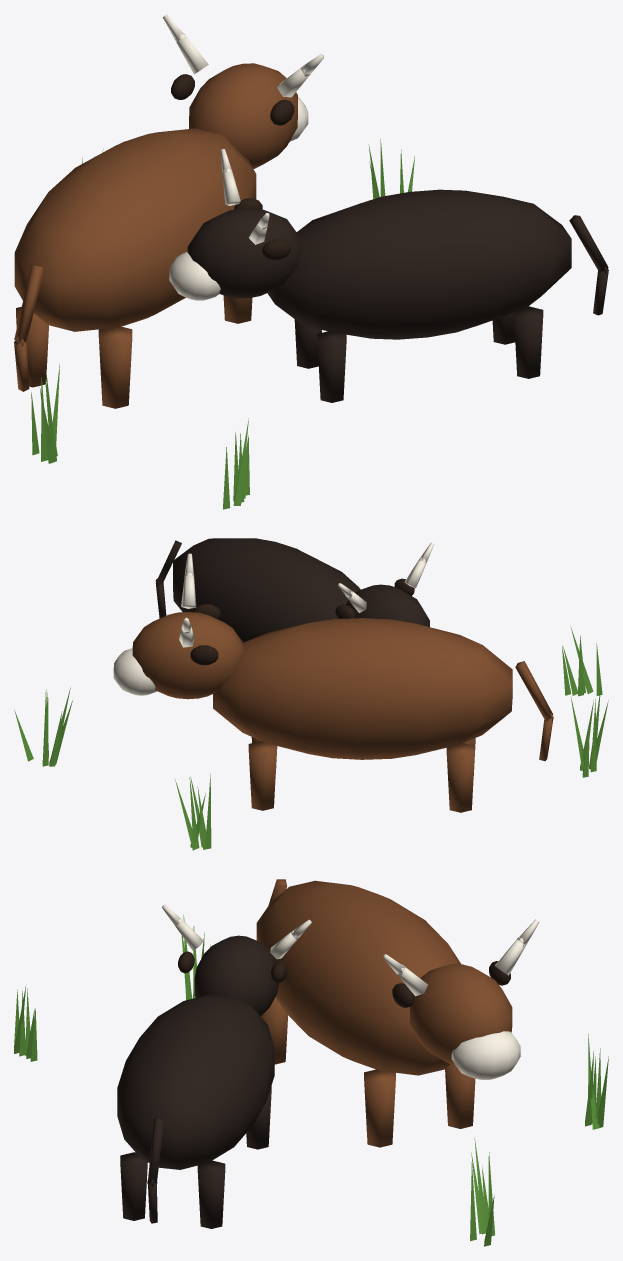
Rendered from resource_cattle.fbx.
The picture shows the model from 3 angles, top to bottom: view 1: azimuth 30°, elevation 25°; view 2: azimuth 150°, elevation 25°; view 3: azimuth 270°, elevation 25°; orthographic projection. The views are drawn at different scales.
Visible parts, largest first — view 1: resource_cattle_fur#2a1f1a_03, resource_cattle_fur#7a4a2a_00, resource_cattle_fur#f2ebdc_01, resource_cattle_grass#5d9a3a_04, resource_cattle_dk#2a1c14_02; view 2: resource_cattle_fur#7a4a2a_00, resource_cattle_fur#2a1f1a_03, resource_cattle_grass#5d9a3a_04, resource_cattle_fur#f2ebdc_01, resource_cattle_dk#2a1c14_02; view 3: resource_cattle_fur#7a4a2a_00, resource_cattle_fur#2a1f1a_03, resource_cattle_fur#f2ebdc_01, resource_cattle_grass#5d9a3a_04, resource_cattle_dk#2a1c14_02.
Boxes of the visible parts, box(x1,y1,x2,y2) form: resource_cattle_fur#2a1f1a_03: box(187, 189, 608, 402); resource_cattle_fur#7a4a2a_00: box(14, 63, 297, 408); resource_cattle_fur#f2ebdc_01: box(163, 14, 323, 300); resource_cattle_grass#5d9a3a_04: box(31, 139, 414, 509); resource_cattle_dk#2a1c14_02: box(171, 74, 294, 260); resource_cattle_fur#7a4a2a_00: box(132, 612, 553, 812); resource_cattle_fur#2a1f1a_03: box(155, 538, 429, 642); resource_cattle_grass#5d9a3a_04: box(14, 626, 608, 850); resource_cattle_fur#f2ebdc_01: box(113, 542, 433, 695); resource_cattle_dk#2a1c14_02: box(190, 578, 414, 665); resource_cattle_fur#7a4a2a_00: box(256, 879, 512, 1147); resource_cattle_fur#2a1f1a_03: box(117, 935, 278, 1228); resource_cattle_fur#f2ebdc_01: box(162, 904, 539, 1079); resource_cattle_grass#5d9a3a_04: box(14, 914, 608, 1246); resource_cattle_dk#2a1c14_02: box(178, 951, 510, 1007).
Bounding box in the file's own units: 106 × 44.23 × 104.
